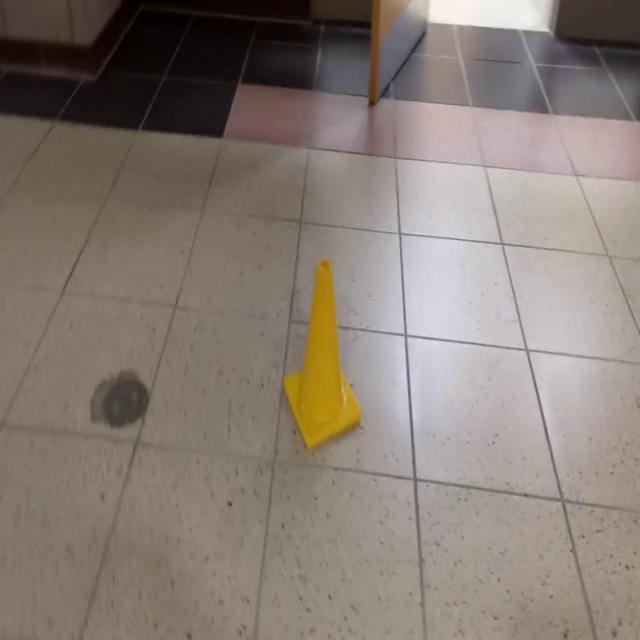frc_cone: (281, 254, 363, 450)
